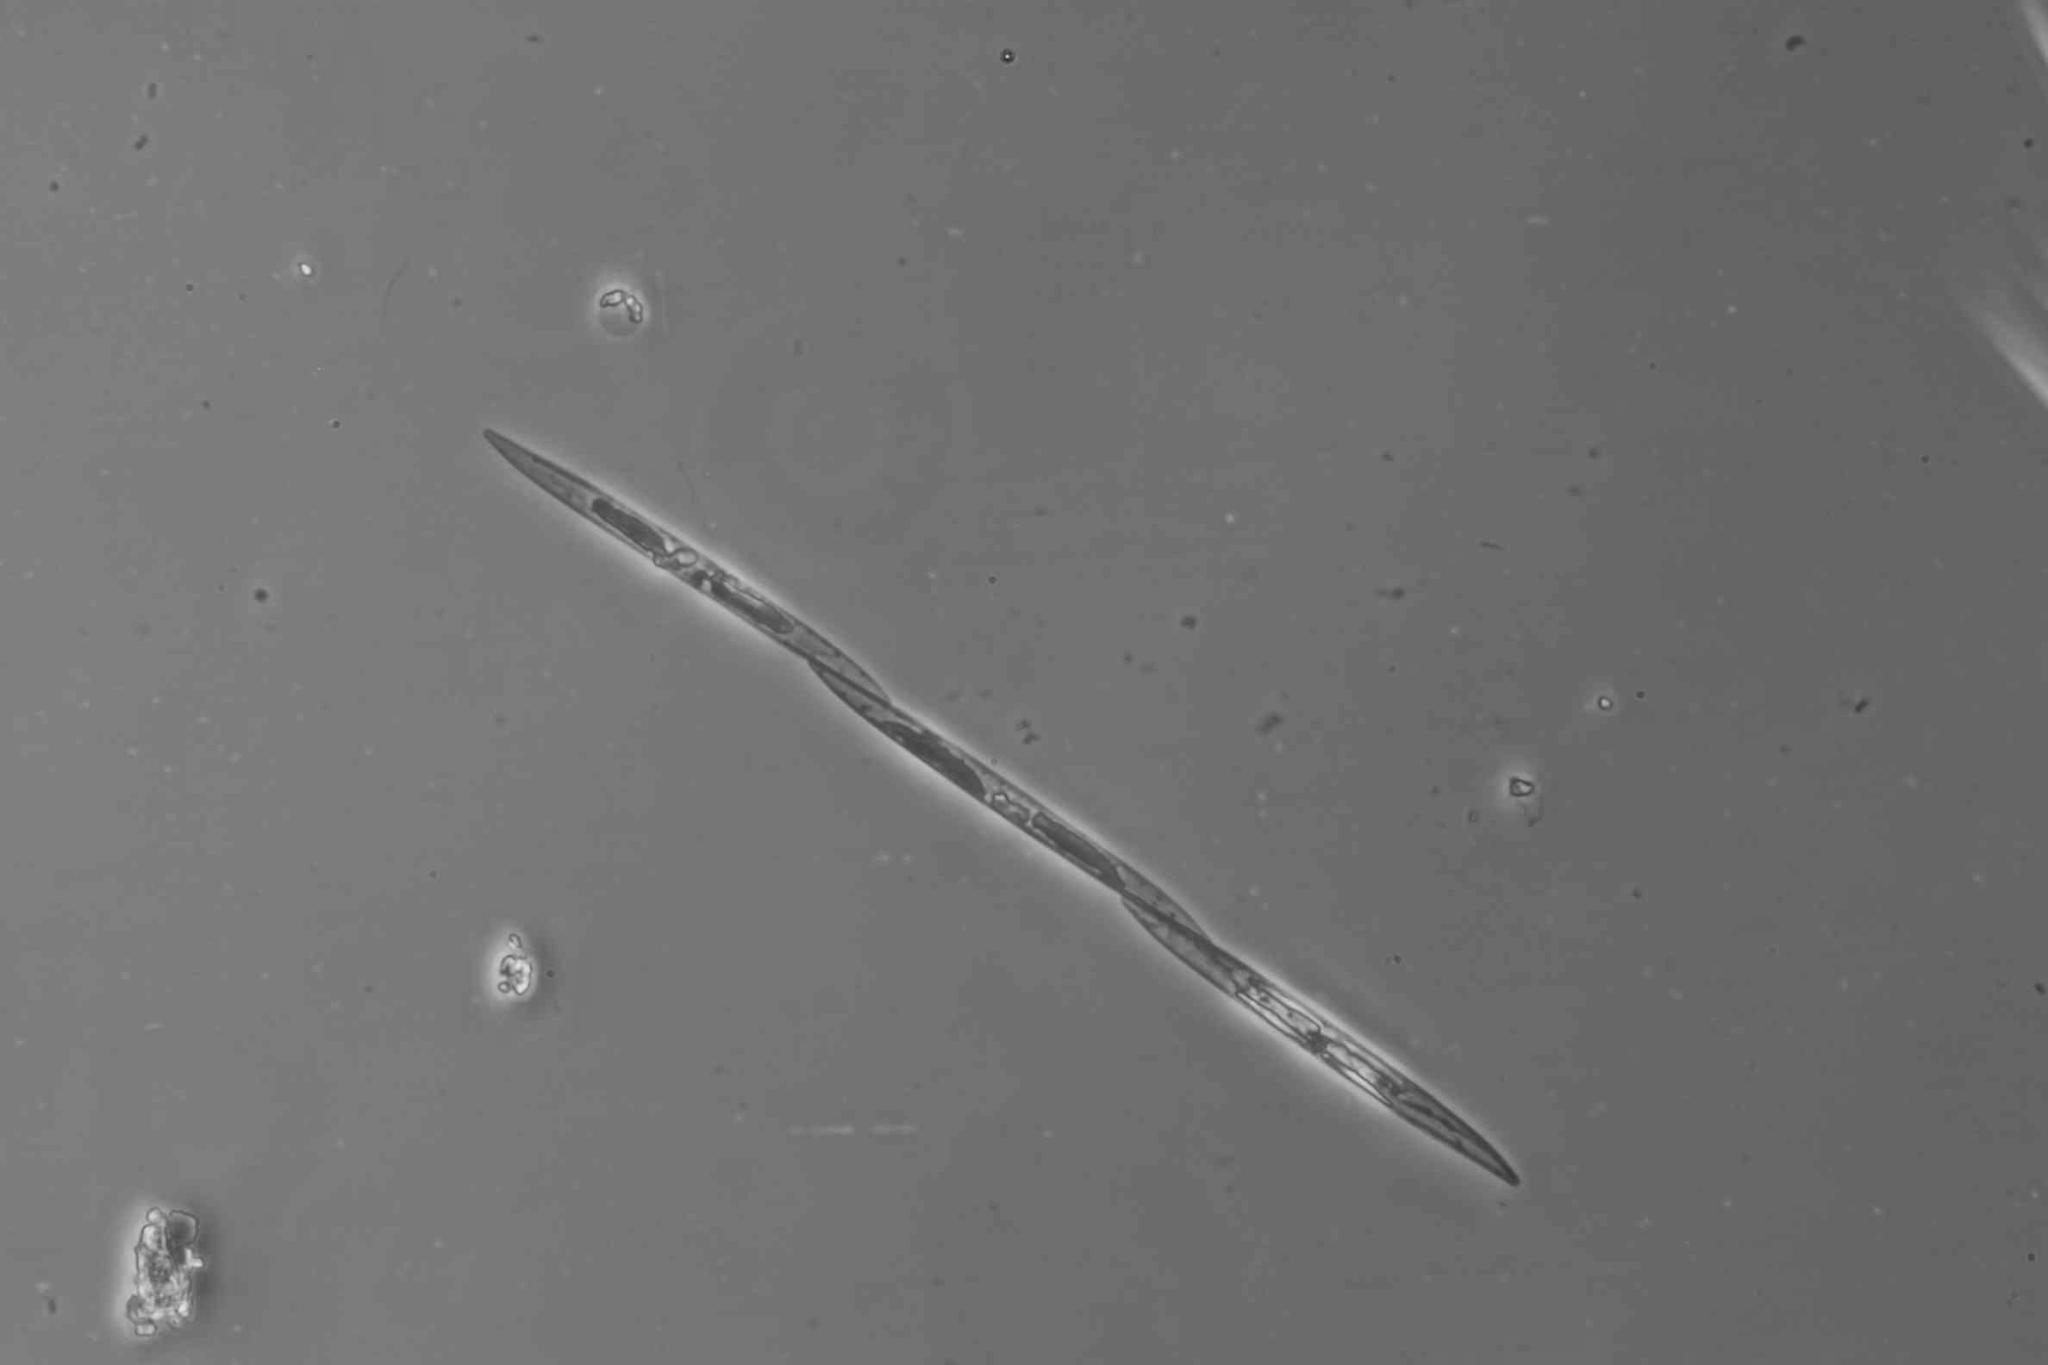pseudo_nitzschia: (467, 414, 1526, 1196)
